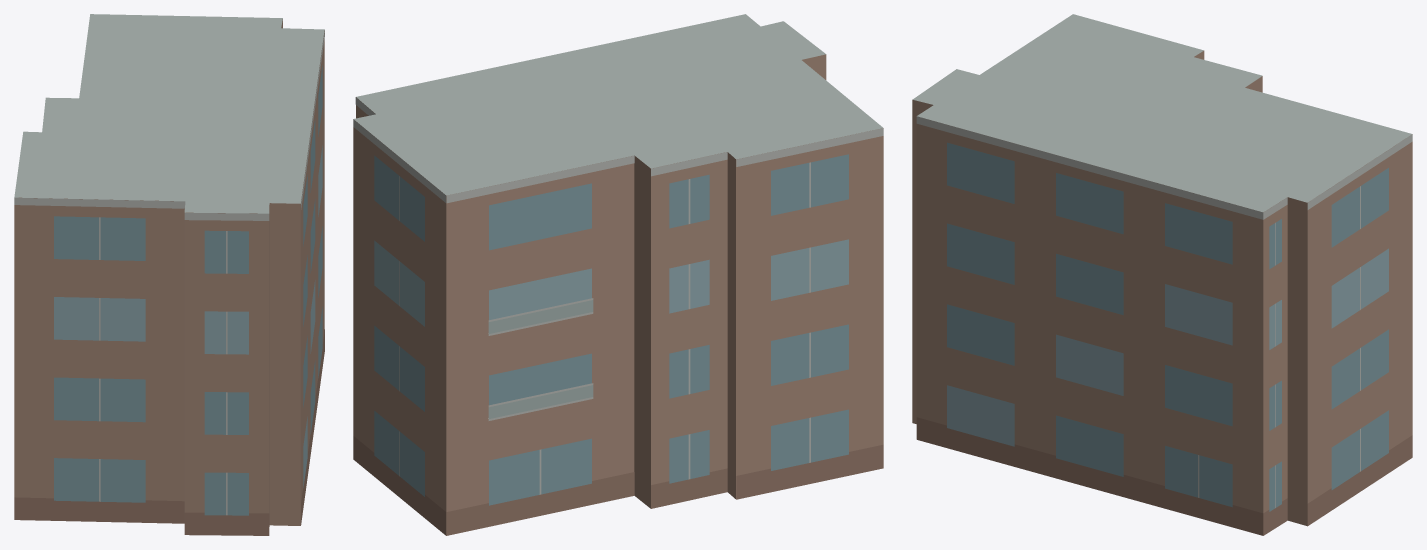
File: survey-upis-32924779.glb
3 renders of one model, left to right at view 1: azimuth 30°, elevation 25°; view 2: azimuth 150°, elevation 25°; view 3: azimuth 270°, elevation 25°, orthographic. The views are drawn at different scales.
Visible parts, largest first — view 1: survey-upis-32924779.tmp; view 2: survey-upis-32924779.tmp; view 3: survey-upis-32924779.tmp.
Part boxes in pixels (x1=…): survey-upis-32924779.tmp: x1=14, y1=14, x2=324, y2=535; survey-upis-32924779.tmp: x1=353, y1=14, x2=883, y2=535; survey-upis-32924779.tmp: x1=912, y1=14, x2=1412, y2=535.
Size of the model in its own units: 13.95 by 10.6 by 14.87.
